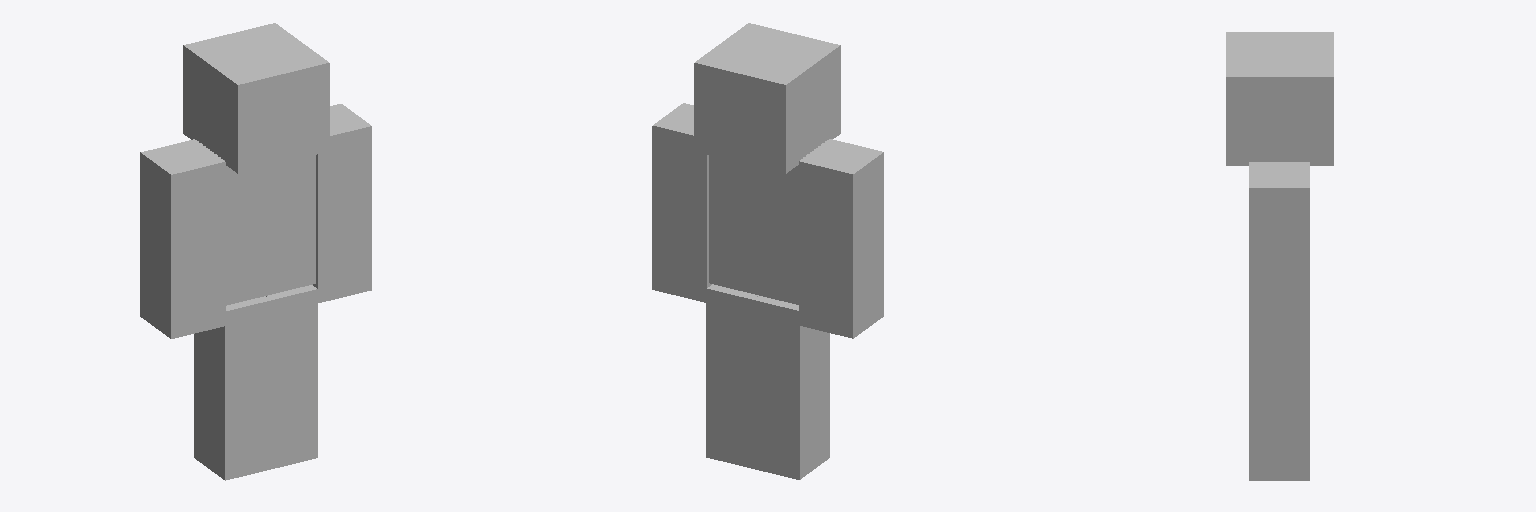
The model's file is ColourfulMard.obj.
3 views of the same model, side by side, from view 1: azimuth 30°, elevation 25°; view 2: azimuth 150°, elevation 25°; view 3: azimuth 270°, elevation 25° (orthographic).
Visible parts, largest first — view 1: Mesh.004_Box3, Mesh.005_Box2, Mesh_Duplicate2, Mesh.003_Box1, Mesh.002_Duplicate, Mesh.001_Duplicate1; view 2: Mesh.004_Box3, Mesh.005_Box2, Mesh_Duplicate2, Mesh.003_Box1, Mesh.002_Duplicate, Mesh.001_Duplicate1; view 3: Mesh.004_Box3, Mesh.002_Duplicate, Mesh.001_Duplicate1.
Boxes of the visible parts, x1,y1,x2,y2 form: Mesh.004_Box3: [183, 23, 329, 173]; Mesh.005_Box2: [140, 139, 225, 338]; Mesh_Duplicate2: [194, 296, 271, 480]; Mesh.003_Box1: [198, 141, 315, 305]; Mesh.002_Duplicate: [313, 104, 371, 302]; Mesh.001_Duplicate1: [266, 285, 317, 468]; Mesh.004_Box3: [694, 23, 840, 173]; Mesh.005_Box2: [799, 139, 883, 338]; Mesh_Duplicate2: [753, 296, 829, 479]; Mesh.003_Box1: [709, 141, 825, 304]; Mesh.002_Duplicate: [652, 103, 711, 302]; Mesh.001_Duplicate1: [706, 284, 758, 468]; Mesh.004_Box3: [1226, 32, 1333, 165]; Mesh.002_Duplicate: [1249, 162, 1309, 351]; Mesh.001_Duplicate1: [1249, 352, 1309, 480].
Bounding box in the file's own units: 1.74 × 3.35 × 0.8186.